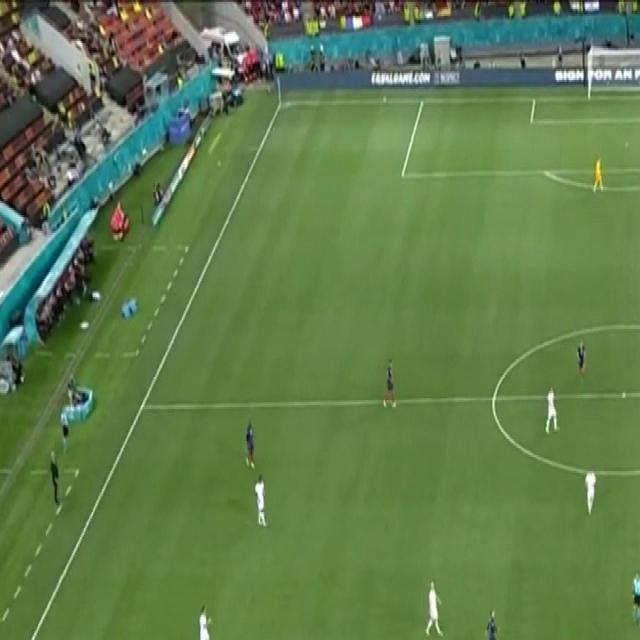player-white: (422, 577, 444, 640), (253, 471, 270, 535), (381, 353, 398, 417), (542, 381, 562, 435), (194, 601, 216, 640), (58, 400, 72, 458), (627, 567, 640, 629), (584, 462, 598, 518), (244, 418, 258, 472), (590, 153, 608, 195), (576, 333, 588, 383), (482, 606, 499, 640), (550, 638, 571, 640)
